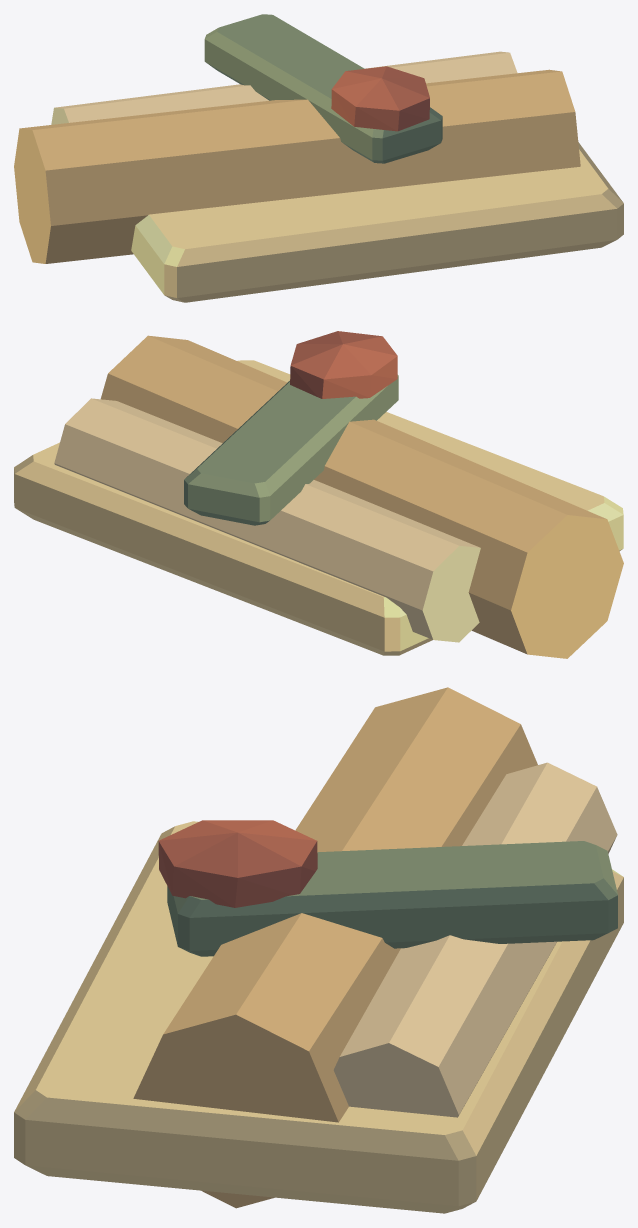
The model's file is find_blueprint.glb.
3 renders of one model, top to bottom at view 1: azimuth 30°, elevation 25°; view 2: azimuth 150°, elevation 25°; view 3: azimuth 270°, elevation 25°, orthographic. The views are drawn at different scales.
Parts seen in each view (by area): view 1: Gefundener Bauplan · Pergament und Siegel; view 2: Gefundener Bauplan · Pergament und Siegel; view 3: Gefundener Bauplan · Pergament und Siegel.
Boxes of the visible parts, x1=… form: Gefundener Bauplan · Pergament und Siegel: x1=14, y1=14, x2=623, y2=302; Gefundener Bauplan · Pergament und Siegel: x1=14, y1=331, x2=623, y2=658; Gefundener Bauplan · Pergament und Siegel: x1=14, y1=687, x2=623, y2=1213.
Size of the model in its own units: 0.4785 by 0.148 by 0.3309.
